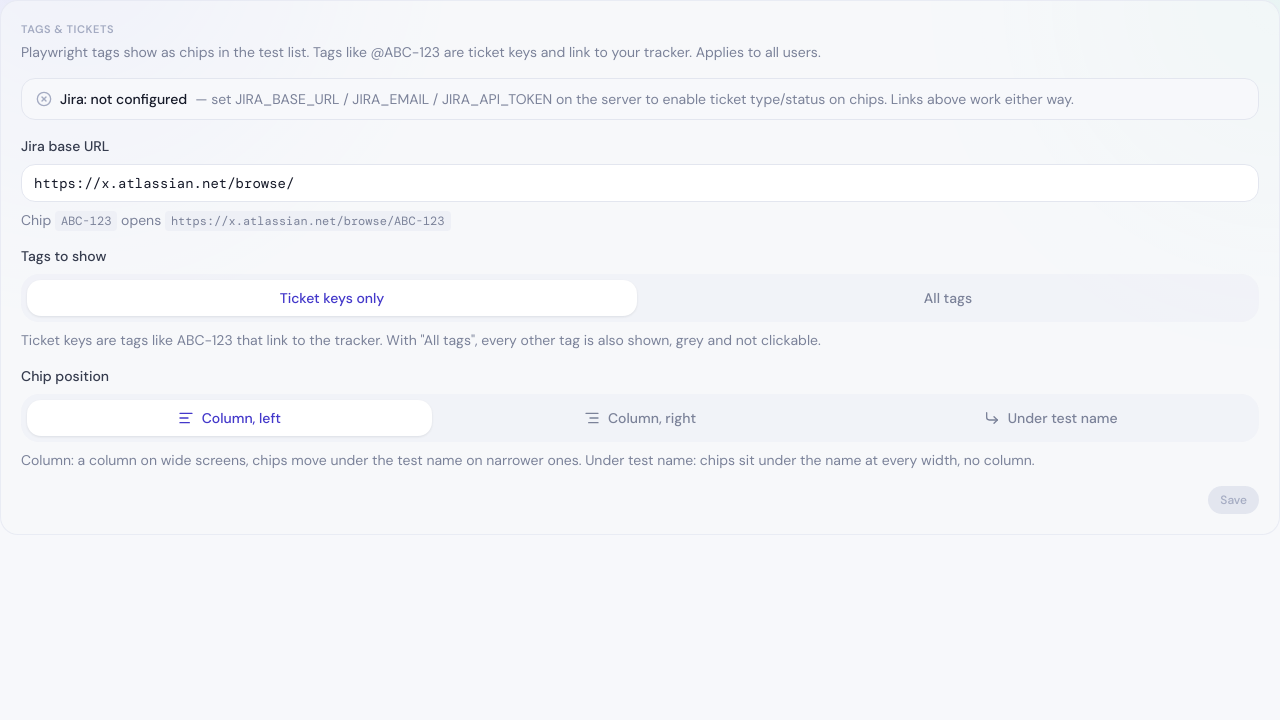
it: SettingsJiraSection › saves base URL, position and tag mode with one PUT
Replace the text in the field labelled "Jira base URL" with " https://jira.example.com/browse " at [640, 182], box [21, 164, 1259, 202]
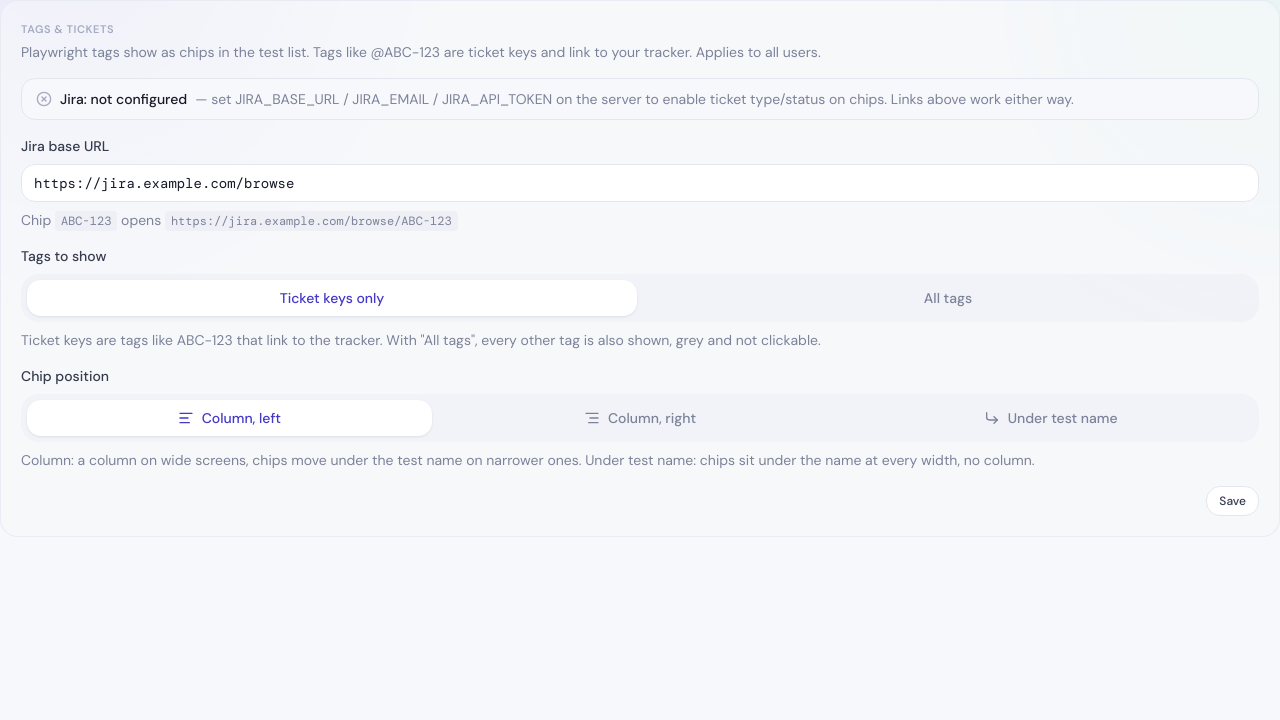
Click the button "Column, right" at [640, 418], box [438, 400, 842, 436]
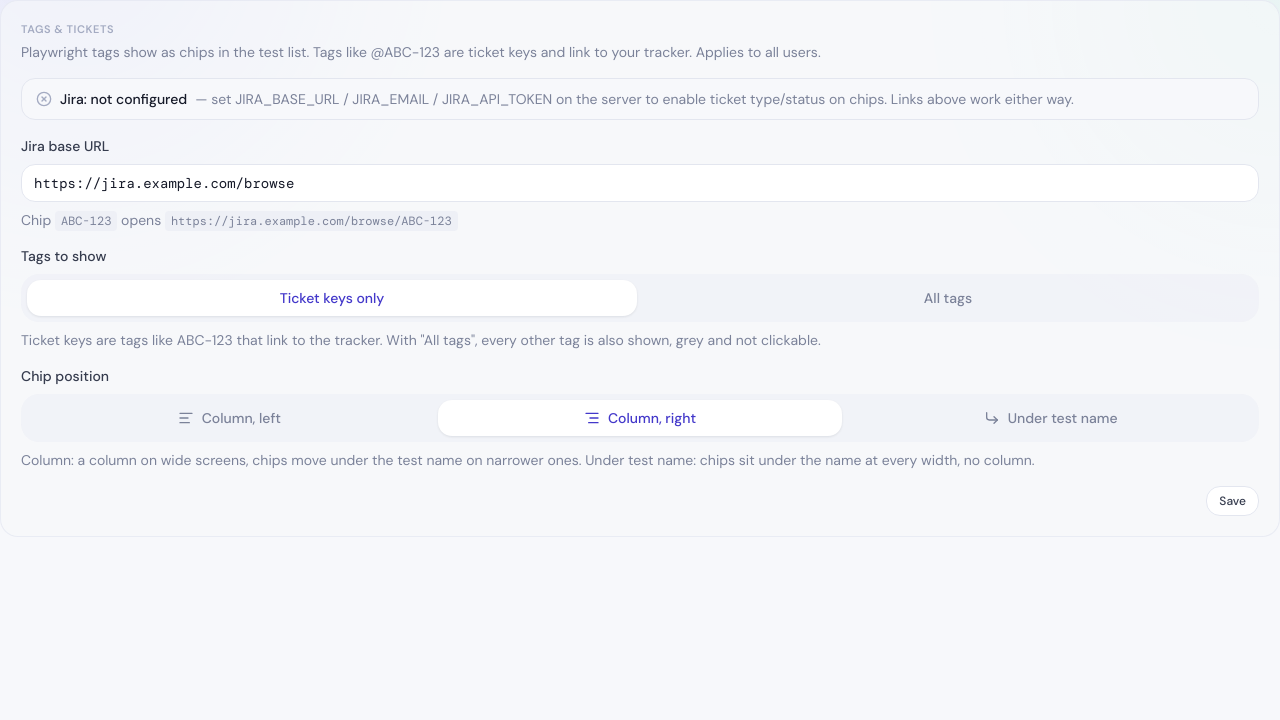
Click the button "All tags" at [948, 298], box [643, 280, 1253, 316]
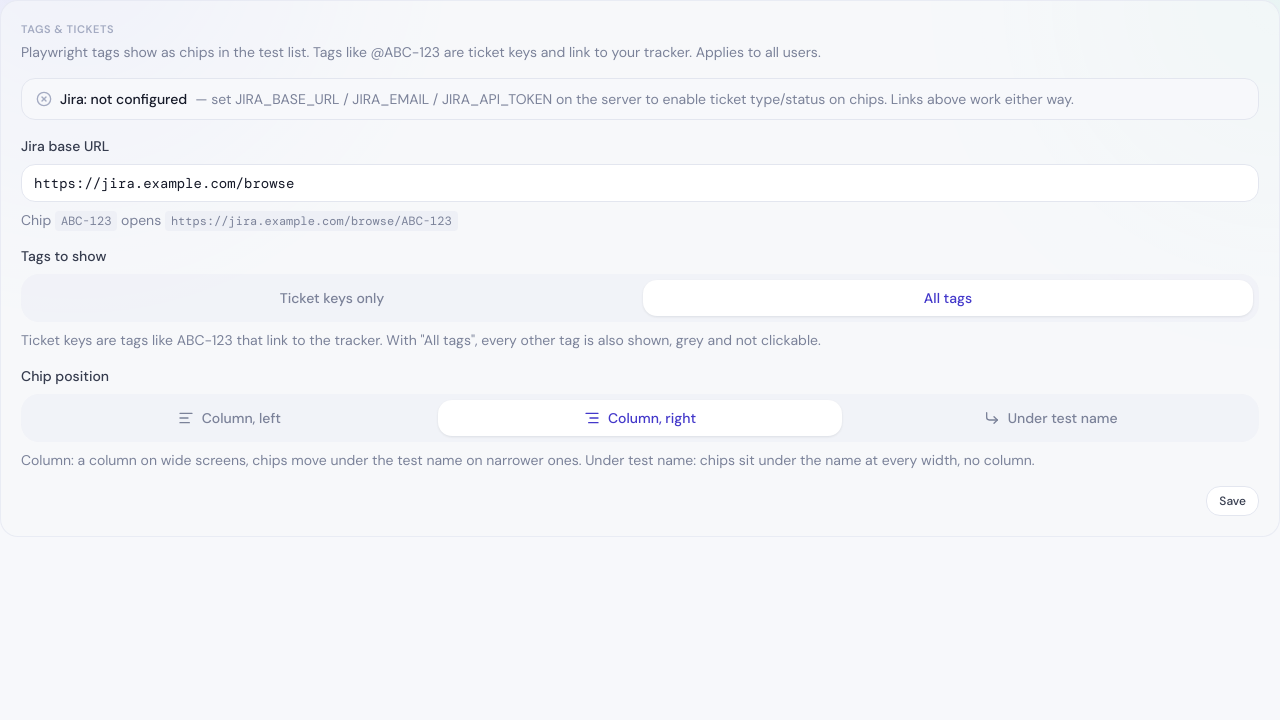
Click the button "Save" at [1233, 500], box [1206, 486, 1259, 516]
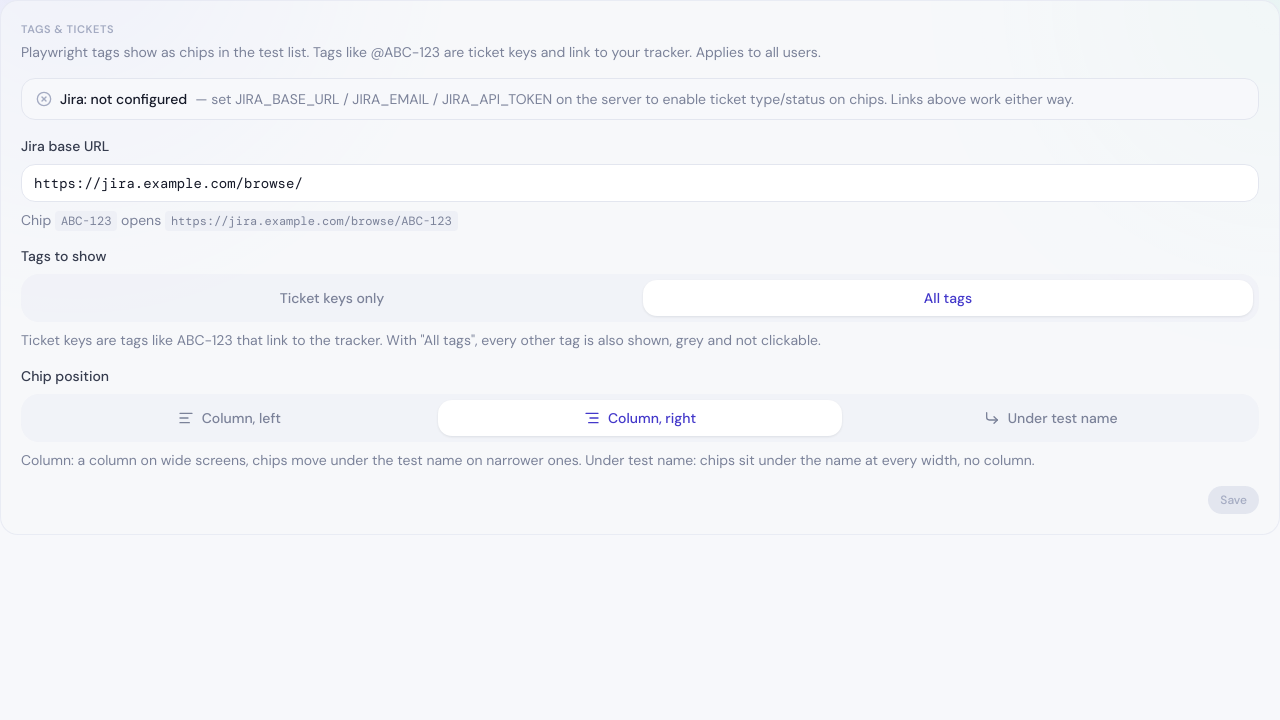
Check: the field labelled "Jira base URL" holds "https://jira.example.com/browse/", box [21, 164, 1259, 202]
Check: the button "Save" is disabled, box [1208, 486, 1259, 514]
